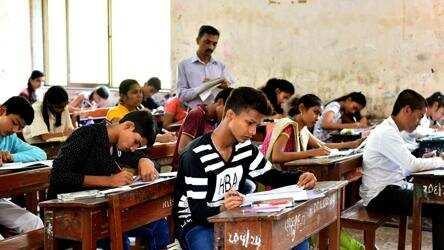invigilator: (179, 23, 229, 124)
student: (177, 89, 343, 218), (42, 99, 169, 196), (369, 78, 441, 185), (275, 83, 347, 165), (108, 82, 160, 123)
